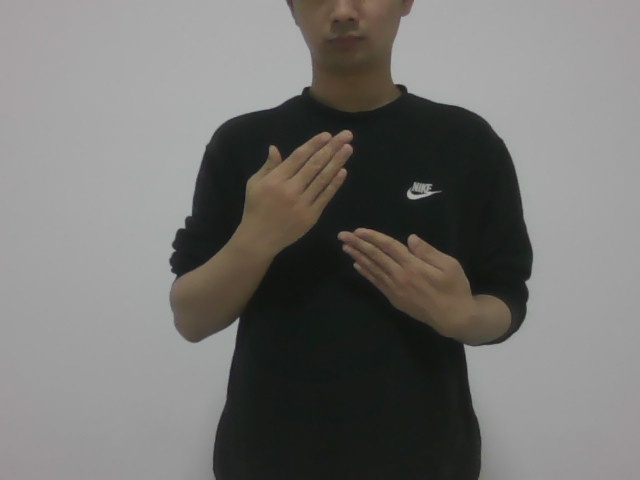tea: (244, 124, 472, 343)
